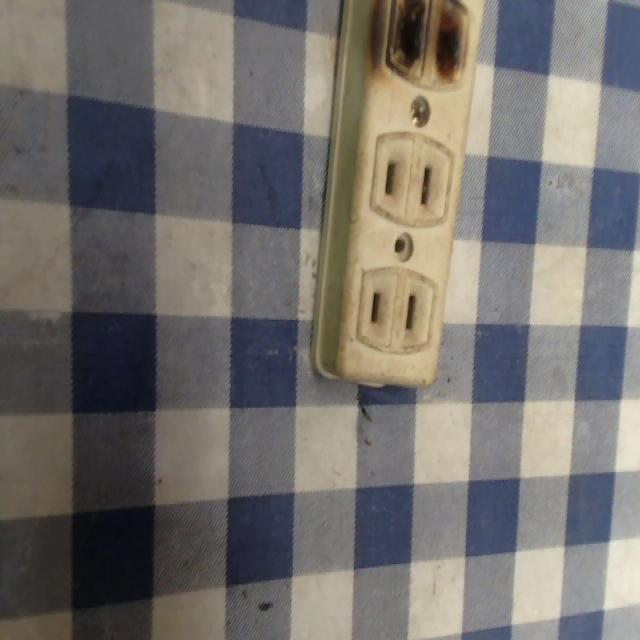-: (376, 0, 480, 96)
